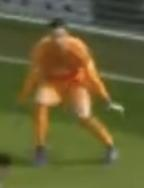goalkeeper: (18, 10, 143, 179)
